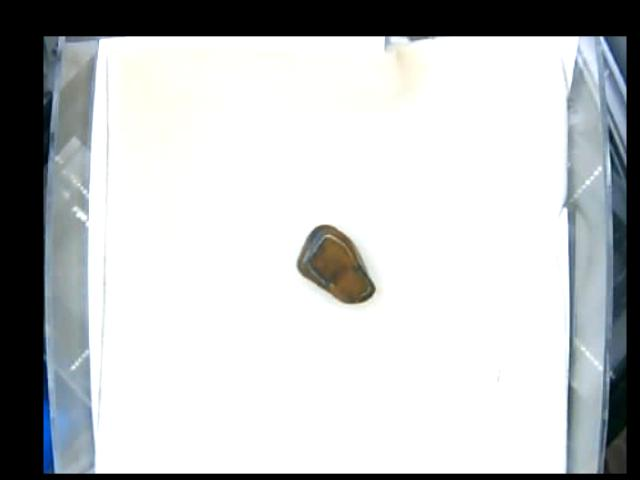Pebble: (293, 221, 376, 304)
